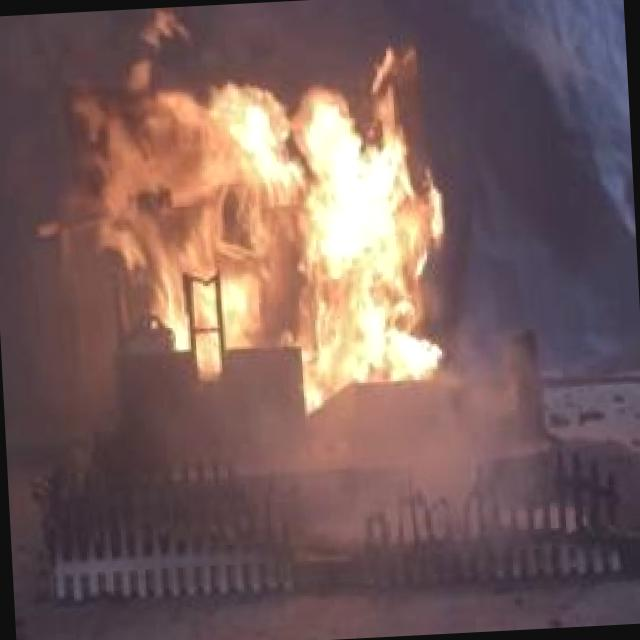fire: (78, 2, 462, 416)
